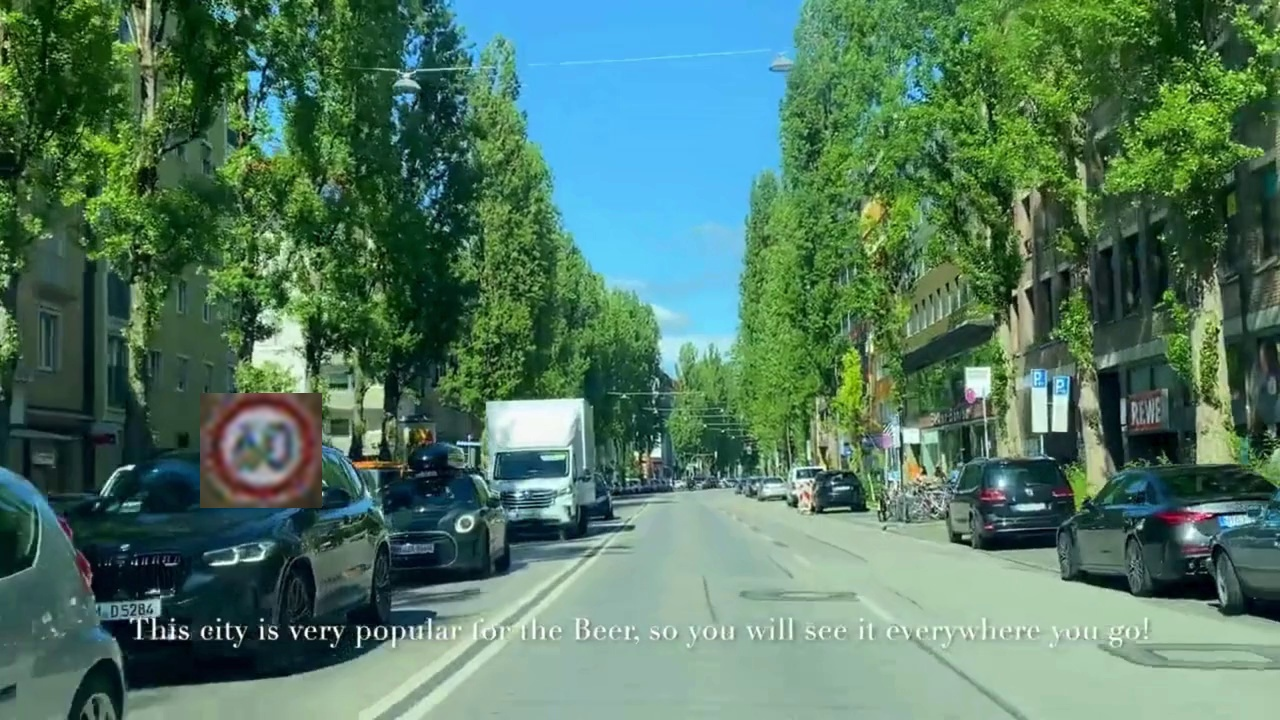Speed 60: (200, 393, 322, 508)
